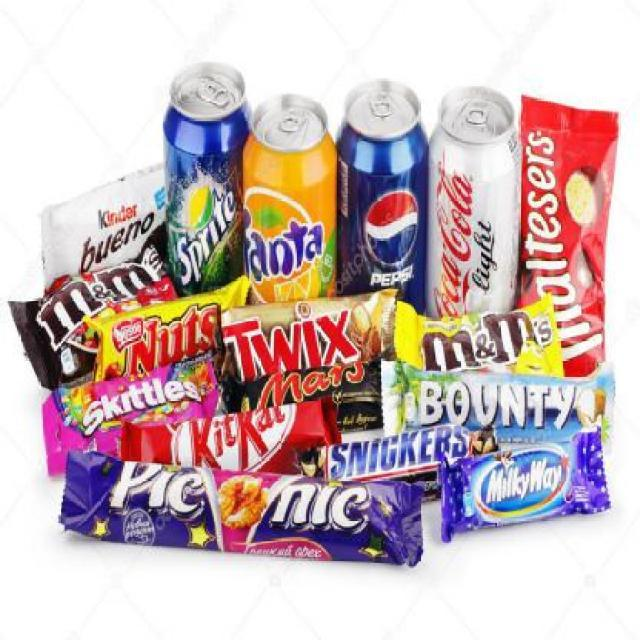Chocolate bar: (58, 450, 426, 572), (518, 94, 618, 380), (436, 426, 610, 540), (5, 266, 178, 380), (40, 360, 218, 466), (33, 164, 169, 296), (406, 366, 620, 449), (87, 278, 253, 382), (394, 292, 568, 386), (212, 290, 396, 376), (117, 406, 340, 476), (307, 423, 502, 500), (225, 358, 384, 433)
